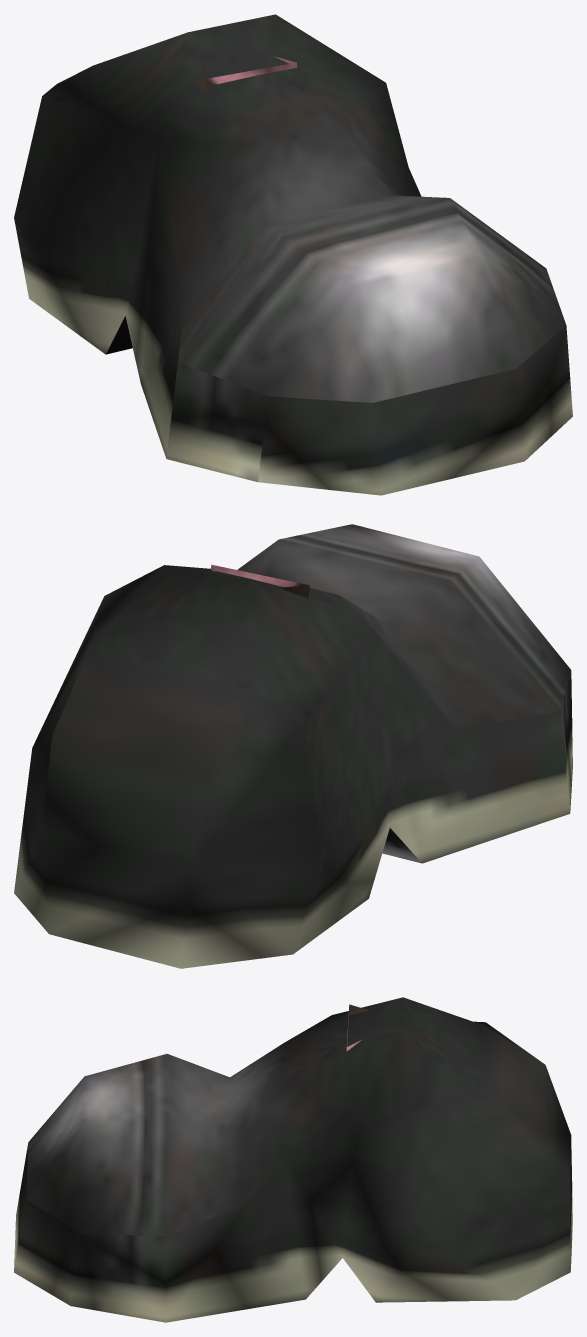
The model's file is Robot01.RightFoot1.fbx.
3 views of the same model, one above another, from view 1: azimuth 30°, elevation 25°; view 2: azimuth 150°, elevation 25°; view 3: azimuth 270°, elevation 25° (orthographic). The views are drawn at different scales.
Parts seen in each view (by area): view 1: Robot01.RightFoot1; view 2: Robot01.RightFoot1; view 3: Robot01.RightFoot1.
Boxes of the visible parts, <box> form: Robot01.RightFoot1: <box>14,14,572,495</box>; Robot01.RightFoot1: <box>14,524,572,968</box>; Robot01.RightFoot1: <box>14,997,572,1322</box>.
Size of the model in its own units: 24.95 by 17.76 by 37.61.
